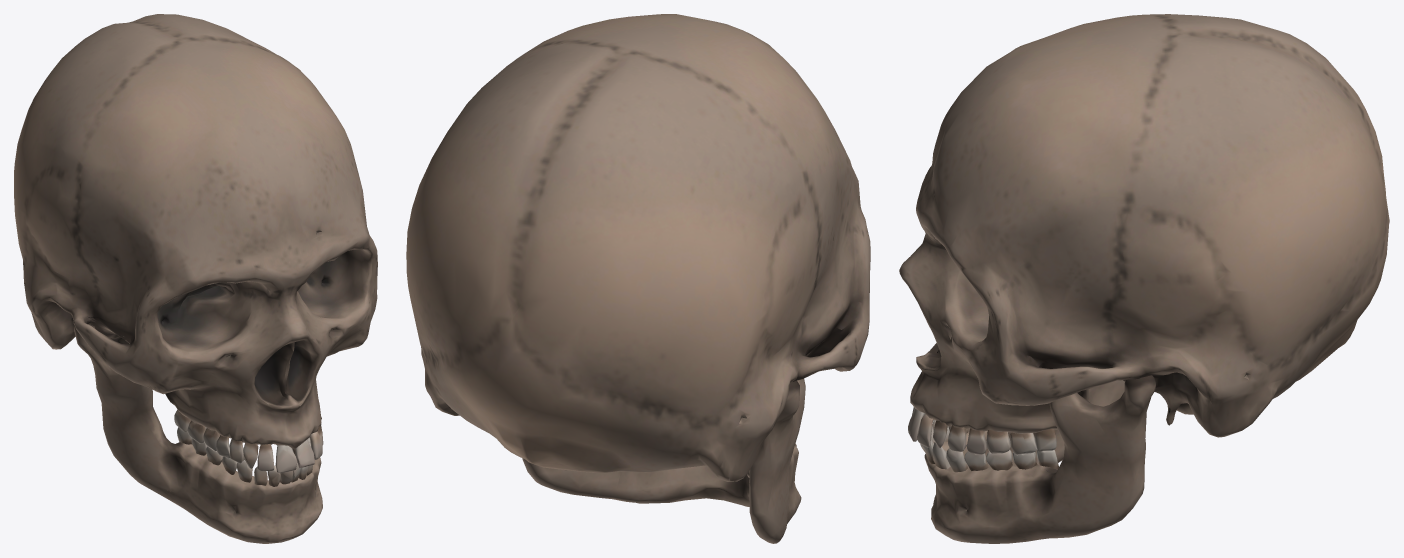
File: skull_downloadable.glb
The picture shows the model from 3 angles, left to right: view 1: azimuth 30°, elevation 25°; view 2: azimuth 150°, elevation 25°; view 3: azimuth 270°, elevation 25°; orthographic projection. The views are drawn at different scales.
Bounding box in the file's own units: 1.34 × 2 × 1.79.
1 material, 1 textured.
